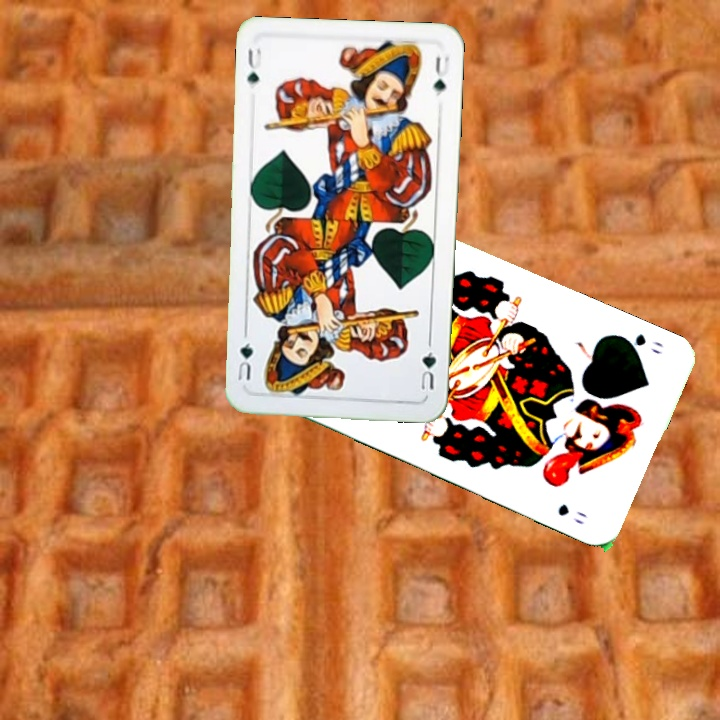GO: (614, 329, 666, 357)
GU: (417, 338, 439, 393), (242, 43, 264, 87)
